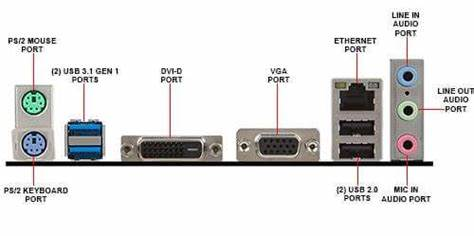Ethernet: (334, 82, 378, 114)
USB: (334, 115, 378, 140), (333, 142, 381, 160)
VGA: (255, 130, 306, 161)
